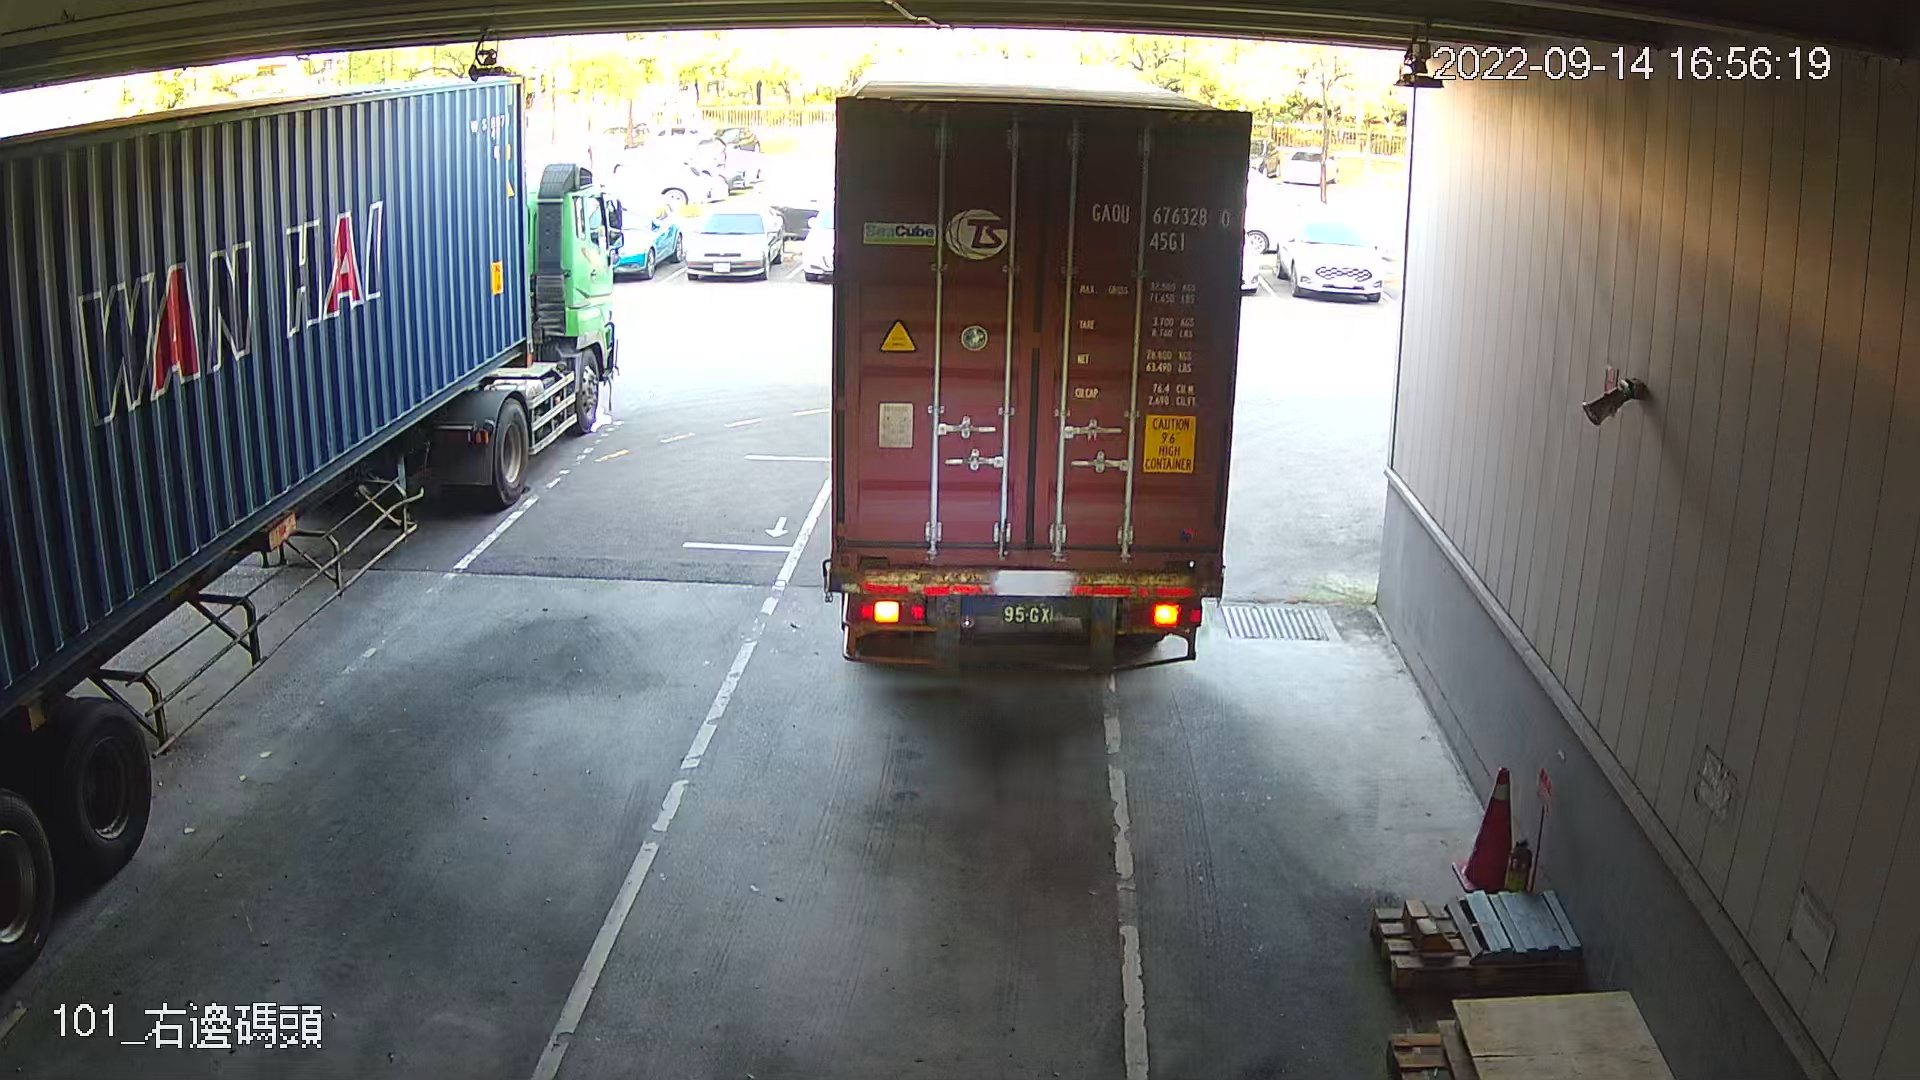container: (1085, 194, 1238, 255)
